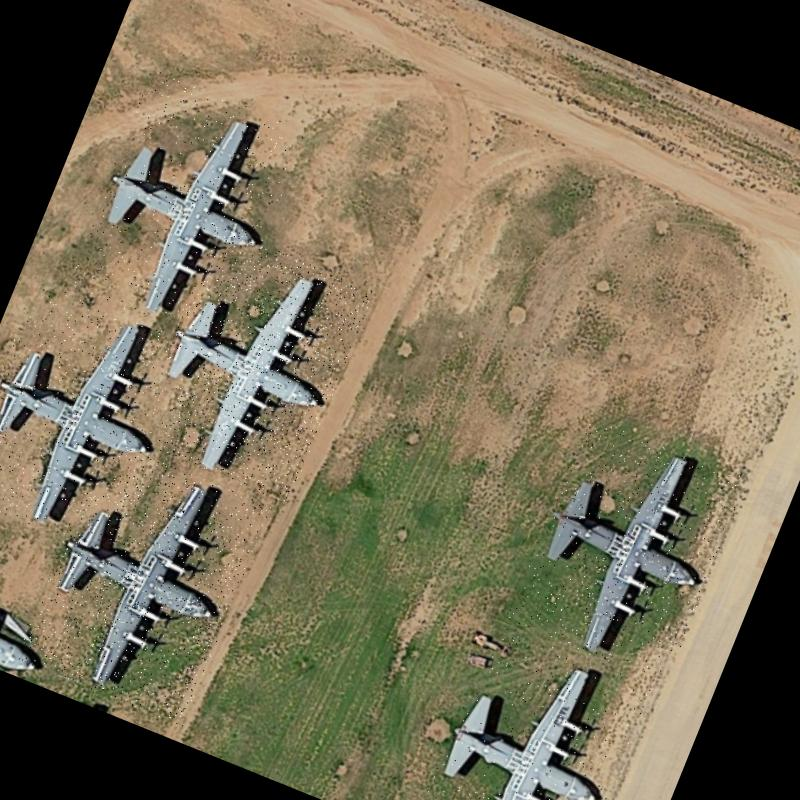A2: (15, 439, 271, 726), (64, 68, 307, 348), (130, 226, 374, 504), (505, 414, 748, 685), (0, 280, 196, 557), (409, 622, 652, 800)
